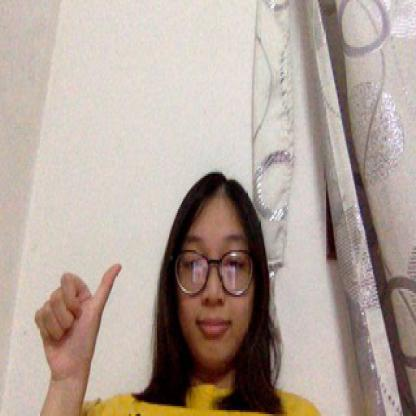left: (35, 262, 124, 373)
